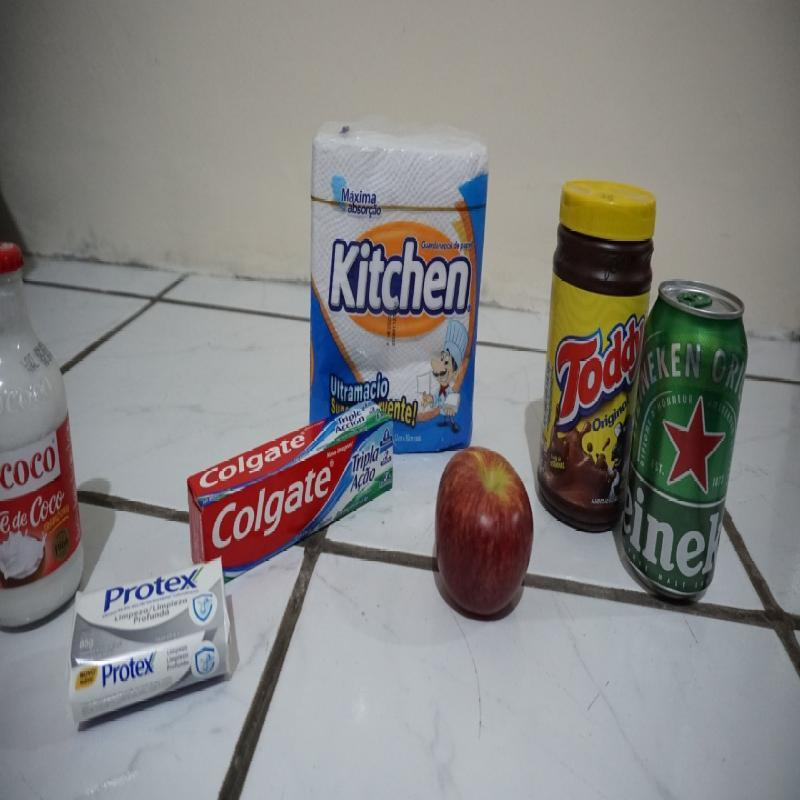Apple: (435, 442, 536, 621)
Beer can: (635, 266, 749, 593)
Chocolate Powder: (540, 181, 632, 526)
Coconut Milk: (0, 237, 80, 586)
Napkin: (311, 132, 484, 388)
Soap: (70, 561, 234, 713)
Toothpaste: (187, 396, 393, 548)
